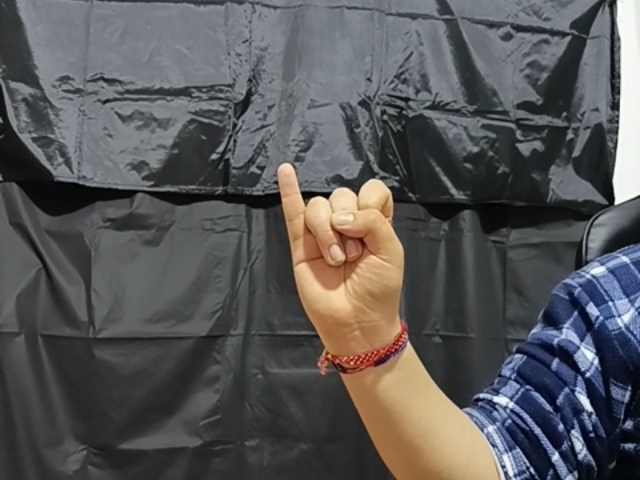I: (276, 163, 419, 334)
